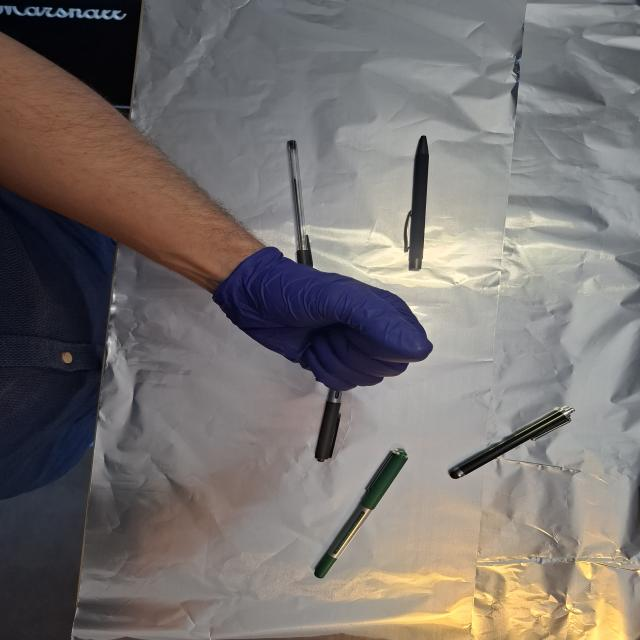glove_on: (212, 246, 438, 393)
